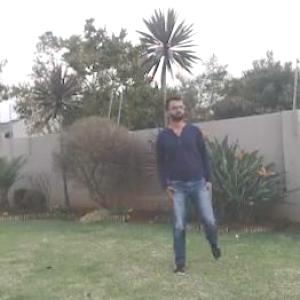follow: (154, 85, 219, 278)
